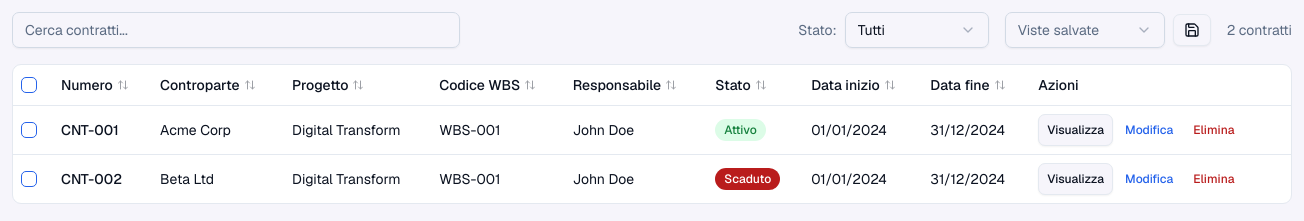
Scenario: ContractTable › hides the Clear button after filters are reset
Click the dropdown named "filtra per stato": (917, 30) top-left (845, 12), bottom-right (989, 48)
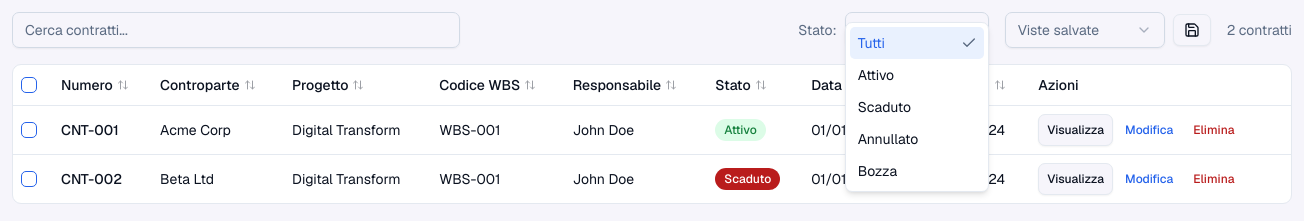
Click the option "Attivo": (876, 75) top-left (858, 66), bottom-right (894, 84)
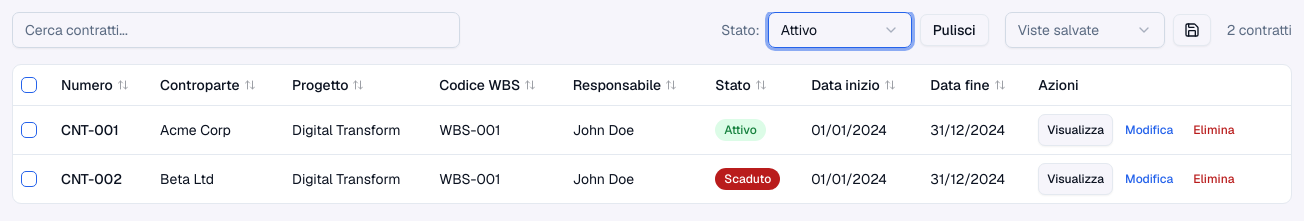
Expected: the button "Pulisci" is shown
Click the button "Pulisci": (954, 30) top-left (920, 14), bottom-right (989, 46)
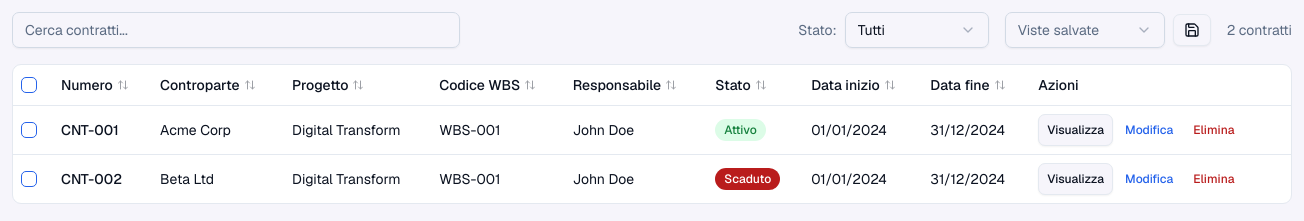
Expected: the button "Pulisci" is gone
